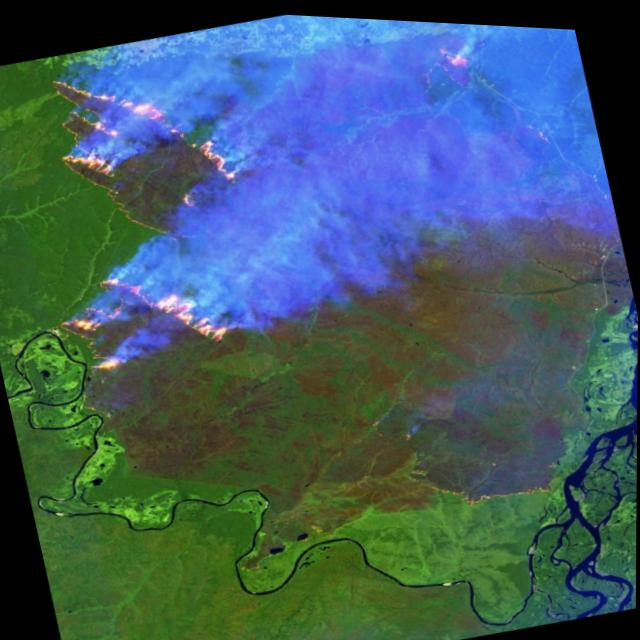fire: (42, 36, 253, 261), (43, 240, 247, 392), (411, 449, 560, 523), (428, 27, 482, 73)
